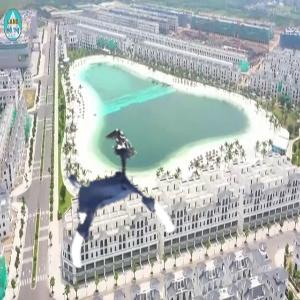drone: (46, 151, 166, 271)
